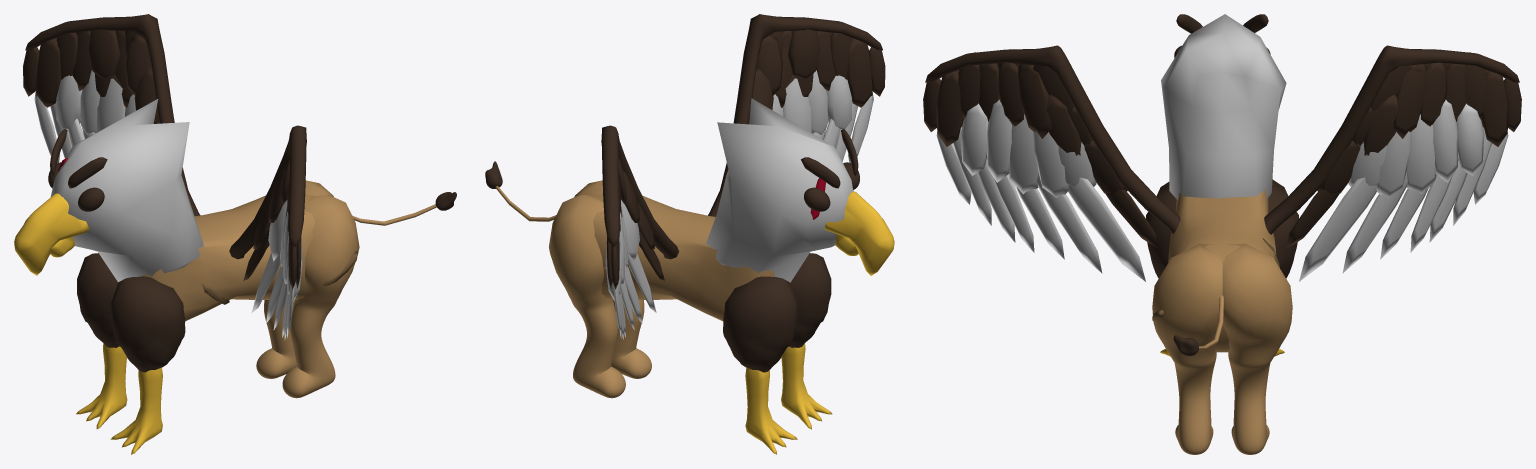
The model's file is griphon-boss.fbx.
3 views of the same model, side by side, from view 1: azimuth 30°, elevation 25°; view 2: azimuth 150°, elevation 25°; view 3: azimuth 270°, elevation 25° (orthographic). The views are drawn at different scales.
Parts seen in each view (by area): view 1: Wing, Head, Legs, Claw Top, Body, Claws, Beak Top, Brow, Sphere, Scar.001; view 2: Wing, Head, Legs, Claw Top, Body, Claws, Beak Top, Brow, Sphere; view 3: Wing, Legs, Head, Body, Claw Top, Brow.
Part boxes in pixels (x1,y1,x2,y2): Wing: (23,14,306,339); Head: (50,99,203,282); Legs: (256,180,359,398); Claw Top: (77,253,185,372); Body: (141,194,315,321); Claws: (76,343,162,454); Beak Top: (14,193,89,275); Brow: (50,129,107,188); Sphere: (48,162,104,211); Scar.001: (202,251,357,304); Wing: (601,14,885,339); Head: (706,98,853,282); Legs: (549,180,651,398); Claw Top: (723,253,831,372); Body: (593,194,774,321); Claws: (745,343,832,454); Beak Top: (824,191,894,275); Brow: (801,129,858,188); Sphere: (804,162,859,211); Wing: (923,45,1521,281); Legs: (1152,243,1292,454); Head: (1161,14,1286,200); Body: (1168,188,1276,352); Claw Top: (1146,179,1298,278); Brow: (1176,14,1268,33).
Bounding box in the file's own units: 1169 × 886 × 1299.
